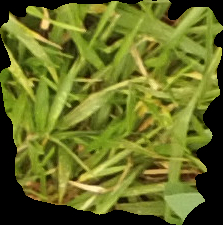grass: (1, 1, 222, 224)
